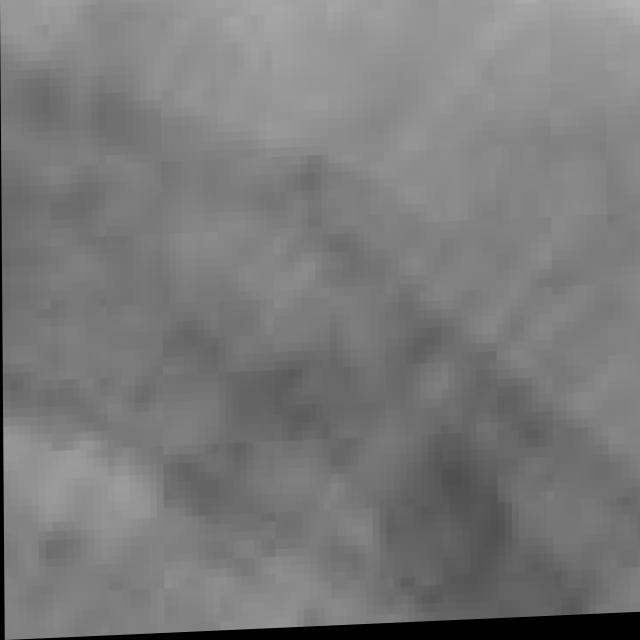fracture: (1, 0, 640, 622)
